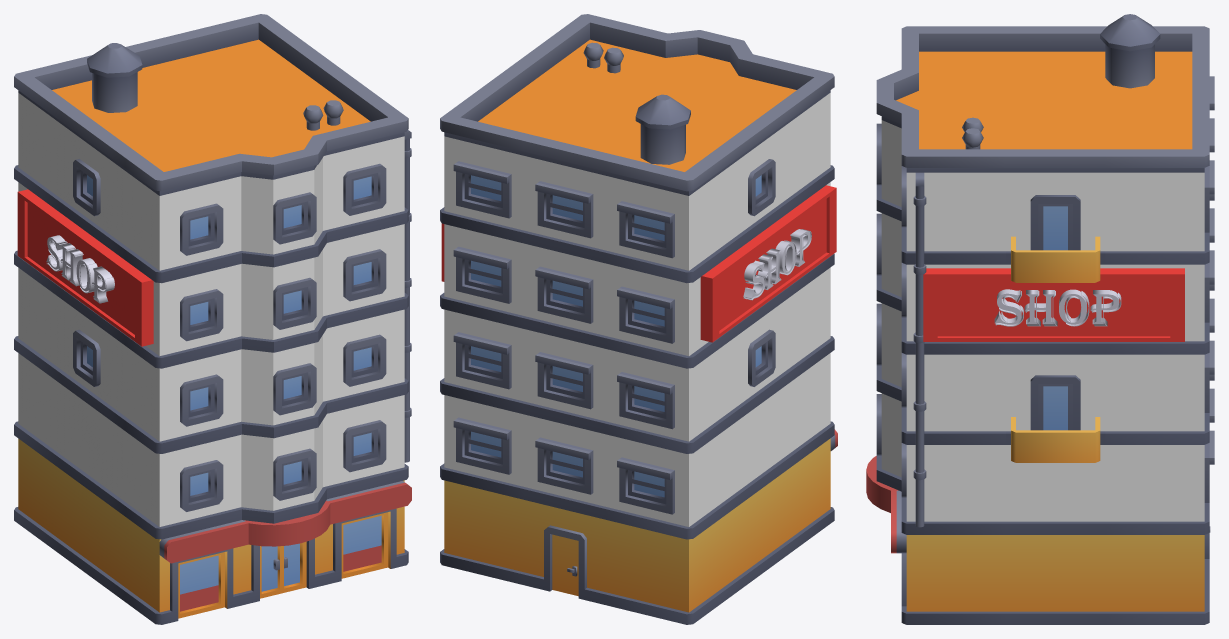
Rendered from shop_level3.glb.
3 views of the same model, side by side, from view 1: azimuth 30°, elevation 25°; view 2: azimuth 150°, elevation 25°; view 3: azimuth 270°, elevation 25° (orthographic). The views are drawn at different scales.
Parts seen in each view (by area): view 1: building-l, 立方体, 文本; view 2: building-l, 立方体, 文本; view 3: building-l, 立方体.001, 文本.001.
Boxes of the visible parts, <box> form: building-l: <box>14,14,411,624</box>; 立方体: <box>17,189,153,346</box>; 文本: <box>46,235,114,303</box>; building-l: <box>440,14,837,624</box>; 立方体: <box>700,185,836,342</box>; 文本: <box>743,229,811,300</box>; building-l: <box>866,14,1214,624</box>; 立方体.001: <box>923,268,1184,341</box>; 文本.001: <box>994,289,1121,326</box>.
Size of the model in its own units: 1.43 by 2.27 by 1.4.
Materials: 3 (1 with a texture image).
